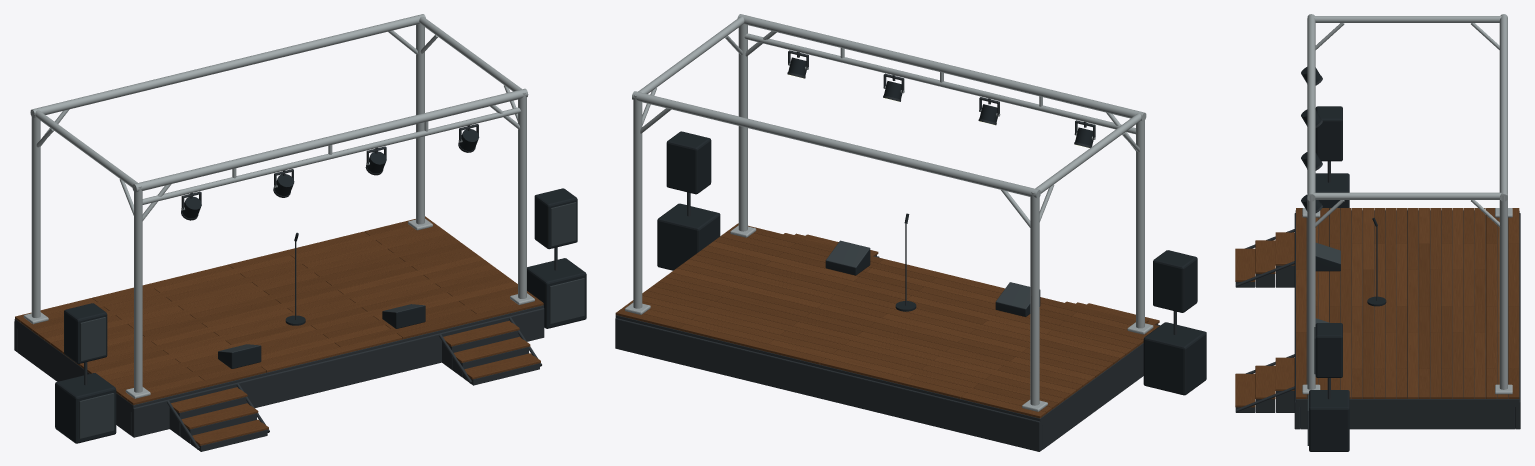
The model's file is garden-stage-C-SSzFBM.glb.
3 renders of one model, left to right at view 1: azimuth 30°, elevation 25°; view 2: azimuth 150°, elevation 25°; view 3: azimuth 270°, elevation 25°, orthographic. The views are drawn at different scales.
Visible parts, largest first — view 1: Stage_Fascia_Front, Stage_Header_-1.72, Stage_Header_1.72, Stage_LightingRail, Stage_Sub_Left, Stage_DeckSubstrate, Stage_Fascia_Side_-1, Stage_Post_L_Rear, Stage_Sub_Right, Stage_Post_L_Front, Stage_Post_R_Front, Stage_Post_R_Rear (+66 smaller); view 2: Stage_Fascia_Rear, Stage_Header_1.72, Stage_Header_-1.72, Stage_Sub_Left, Stage_Fascia_Side_-1, Stage_Sub_Right, Stage_LightingRail, Stage_TopSpeaker_Right, Stage_TopSpeaker_Left, Stage_Post_L_Rear, Stage_Post_R_Rear, Stage_DeckSubstrate (+57 smaller); view 3: Stage_DeckSubstrate, Stage_Fascia_Side_1, Stage_Sub_Right, Stage_Post_R_Rear, Stage_Post_R_Front, Stage_Header_-1.72, Stage_Header_1.72, Stage_TopSpeaker_Right, Stage_SideBeam_3.74, Stage_TopSpeaker_Left, Stage_SideBeam_-3.74, Stage_Sub_Left (+71 smaller).
Part boxes in pixels (x1,y1,x2,y2): Stage_Fascia_Front: (131,308,544,437); Stage_Header_-1.72: (132,88,528,192); Stage_Header_1.72: (30,14,425,117); Stage_LightingRail: (142,107,520,204); Stage_Sub_Left: (55,373,116,443); Stage_DeckSubstrate: (14,305,543,412); Stage_Fascia_Side_-1: (17,325,131,435); Stage_Post_L_Rear: (31,111,40,317); Stage_Sub_Right: (527,258,586,328); Stage_Post_L_Front: (134,186,142,392); Stage_Post_R_Front: (518,92,526,298); Stage_Post_R_Rear: (416,23,424,224); Stage_Fascia_Rear: (615,318,1042,451); Stage_Header_1.72: (632,91,1040,198); Stage_Header_-1.72: (737,14,1146,121); Stage_Sub_Left: (1143,322,1206,395); Stage_Fascia_Side_-1: (1042,346,1143,449); Stage_Sub_Right: (657,203,720,270); Stage_LightingRail: (744,33,1135,134); Stage_TopSpeaker_Right: (666,131,711,194); Stage_TopSpeaker_Left: (1153,250,1197,312); Stage_Post_L_Rear: (1030,192,1039,405); Stage_Post_R_Rear: (633,95,642,308); Stage_DeckSubstrate: (615,315,1143,426); Stage_DeckSubstrate: (1295,210,1519,406); Stage_Fascia_Side_1: (1300,402,1514,429); Stage_Sub_Right: (1309,390,1349,451); Stage_Post_R_Rear: (1499,193,1507,389); Stage_Post_R_Front: (1307,193,1315,389); Stage_Header_-1.72: (1307,14,1315,201); Stage_Header_1.72: (1499,14,1507,201); Stage_TopSpeaker_Right: (1315,323,1342,377); Stage_SideBeam_3.74: (1313,192,1501,199); Stage_TopSpeaker_Left: (1315,106,1342,161); Stage_SideBeam_-3.74: (1313,16,1501,22); Stage_Sub_Left: (1315,173,1349,209).
Size of the model in its own units: 9.96 by 4.56 by 5.1.
10 materials, 5 textured.
